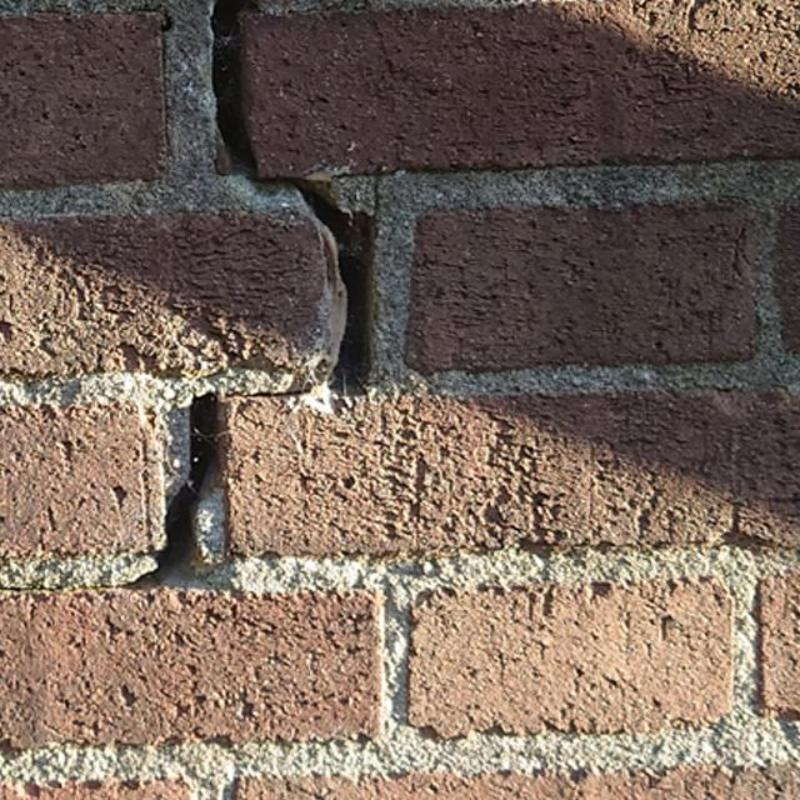crack: (212, 0, 380, 394), (138, 391, 219, 587), (228, 389, 309, 398)
